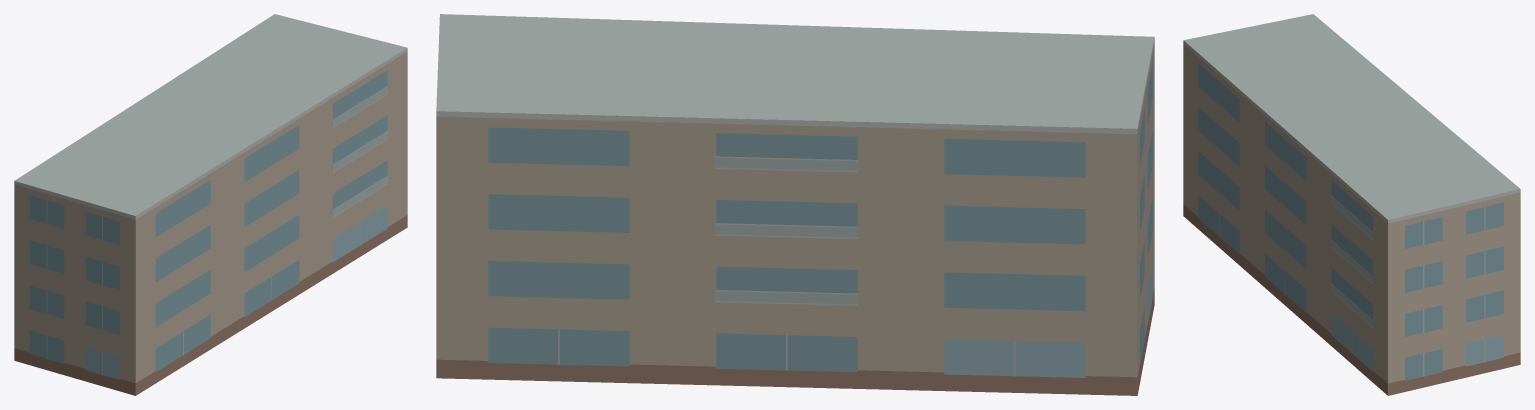
File: survey-upis-32988196.glb
3 renders of one model, left to right at view 1: azimuth 30°, elevation 25°; view 2: azimuth 150°, elevation 25°; view 3: azimuth 270°, elevation 25°, orthographic. The views are drawn at different scales.
Parts seen in each view (by area): view 1: survey-upis-32988196.tmp; view 2: survey-upis-32988196.tmp; view 3: survey-upis-32988196.tmp.
Boxes of the visible parts, x1,y1,x2,y2 form: survey-upis-32988196.tmp: [14, 14, 407, 395]; survey-upis-32988196.tmp: [436, 14, 1154, 395]; survey-upis-32988196.tmp: [1183, 14, 1520, 395].
Size of the model in its own units: 29.9 by 11.9 by 20.68.
